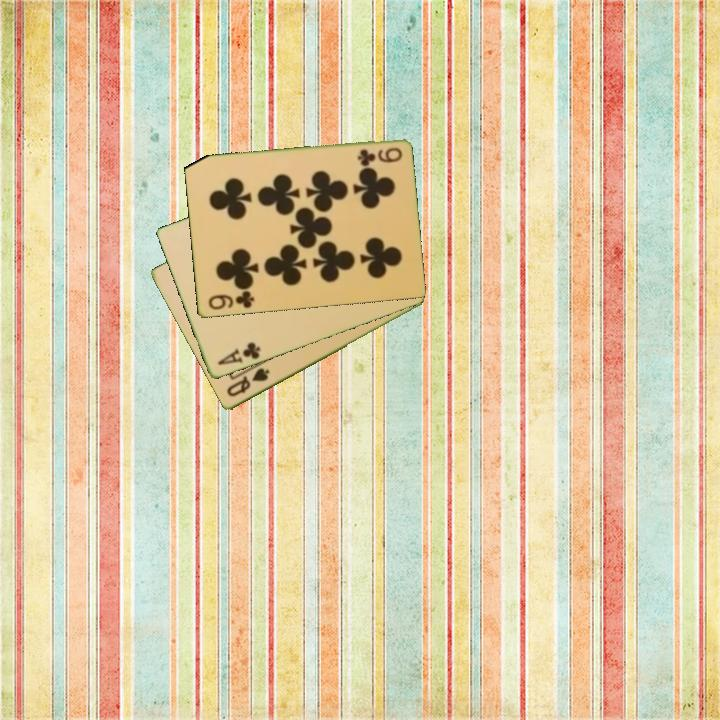9c: (204, 287, 257, 313), (354, 144, 405, 167)
Ac: (214, 339, 263, 369)
Qs: (223, 365, 273, 400)
